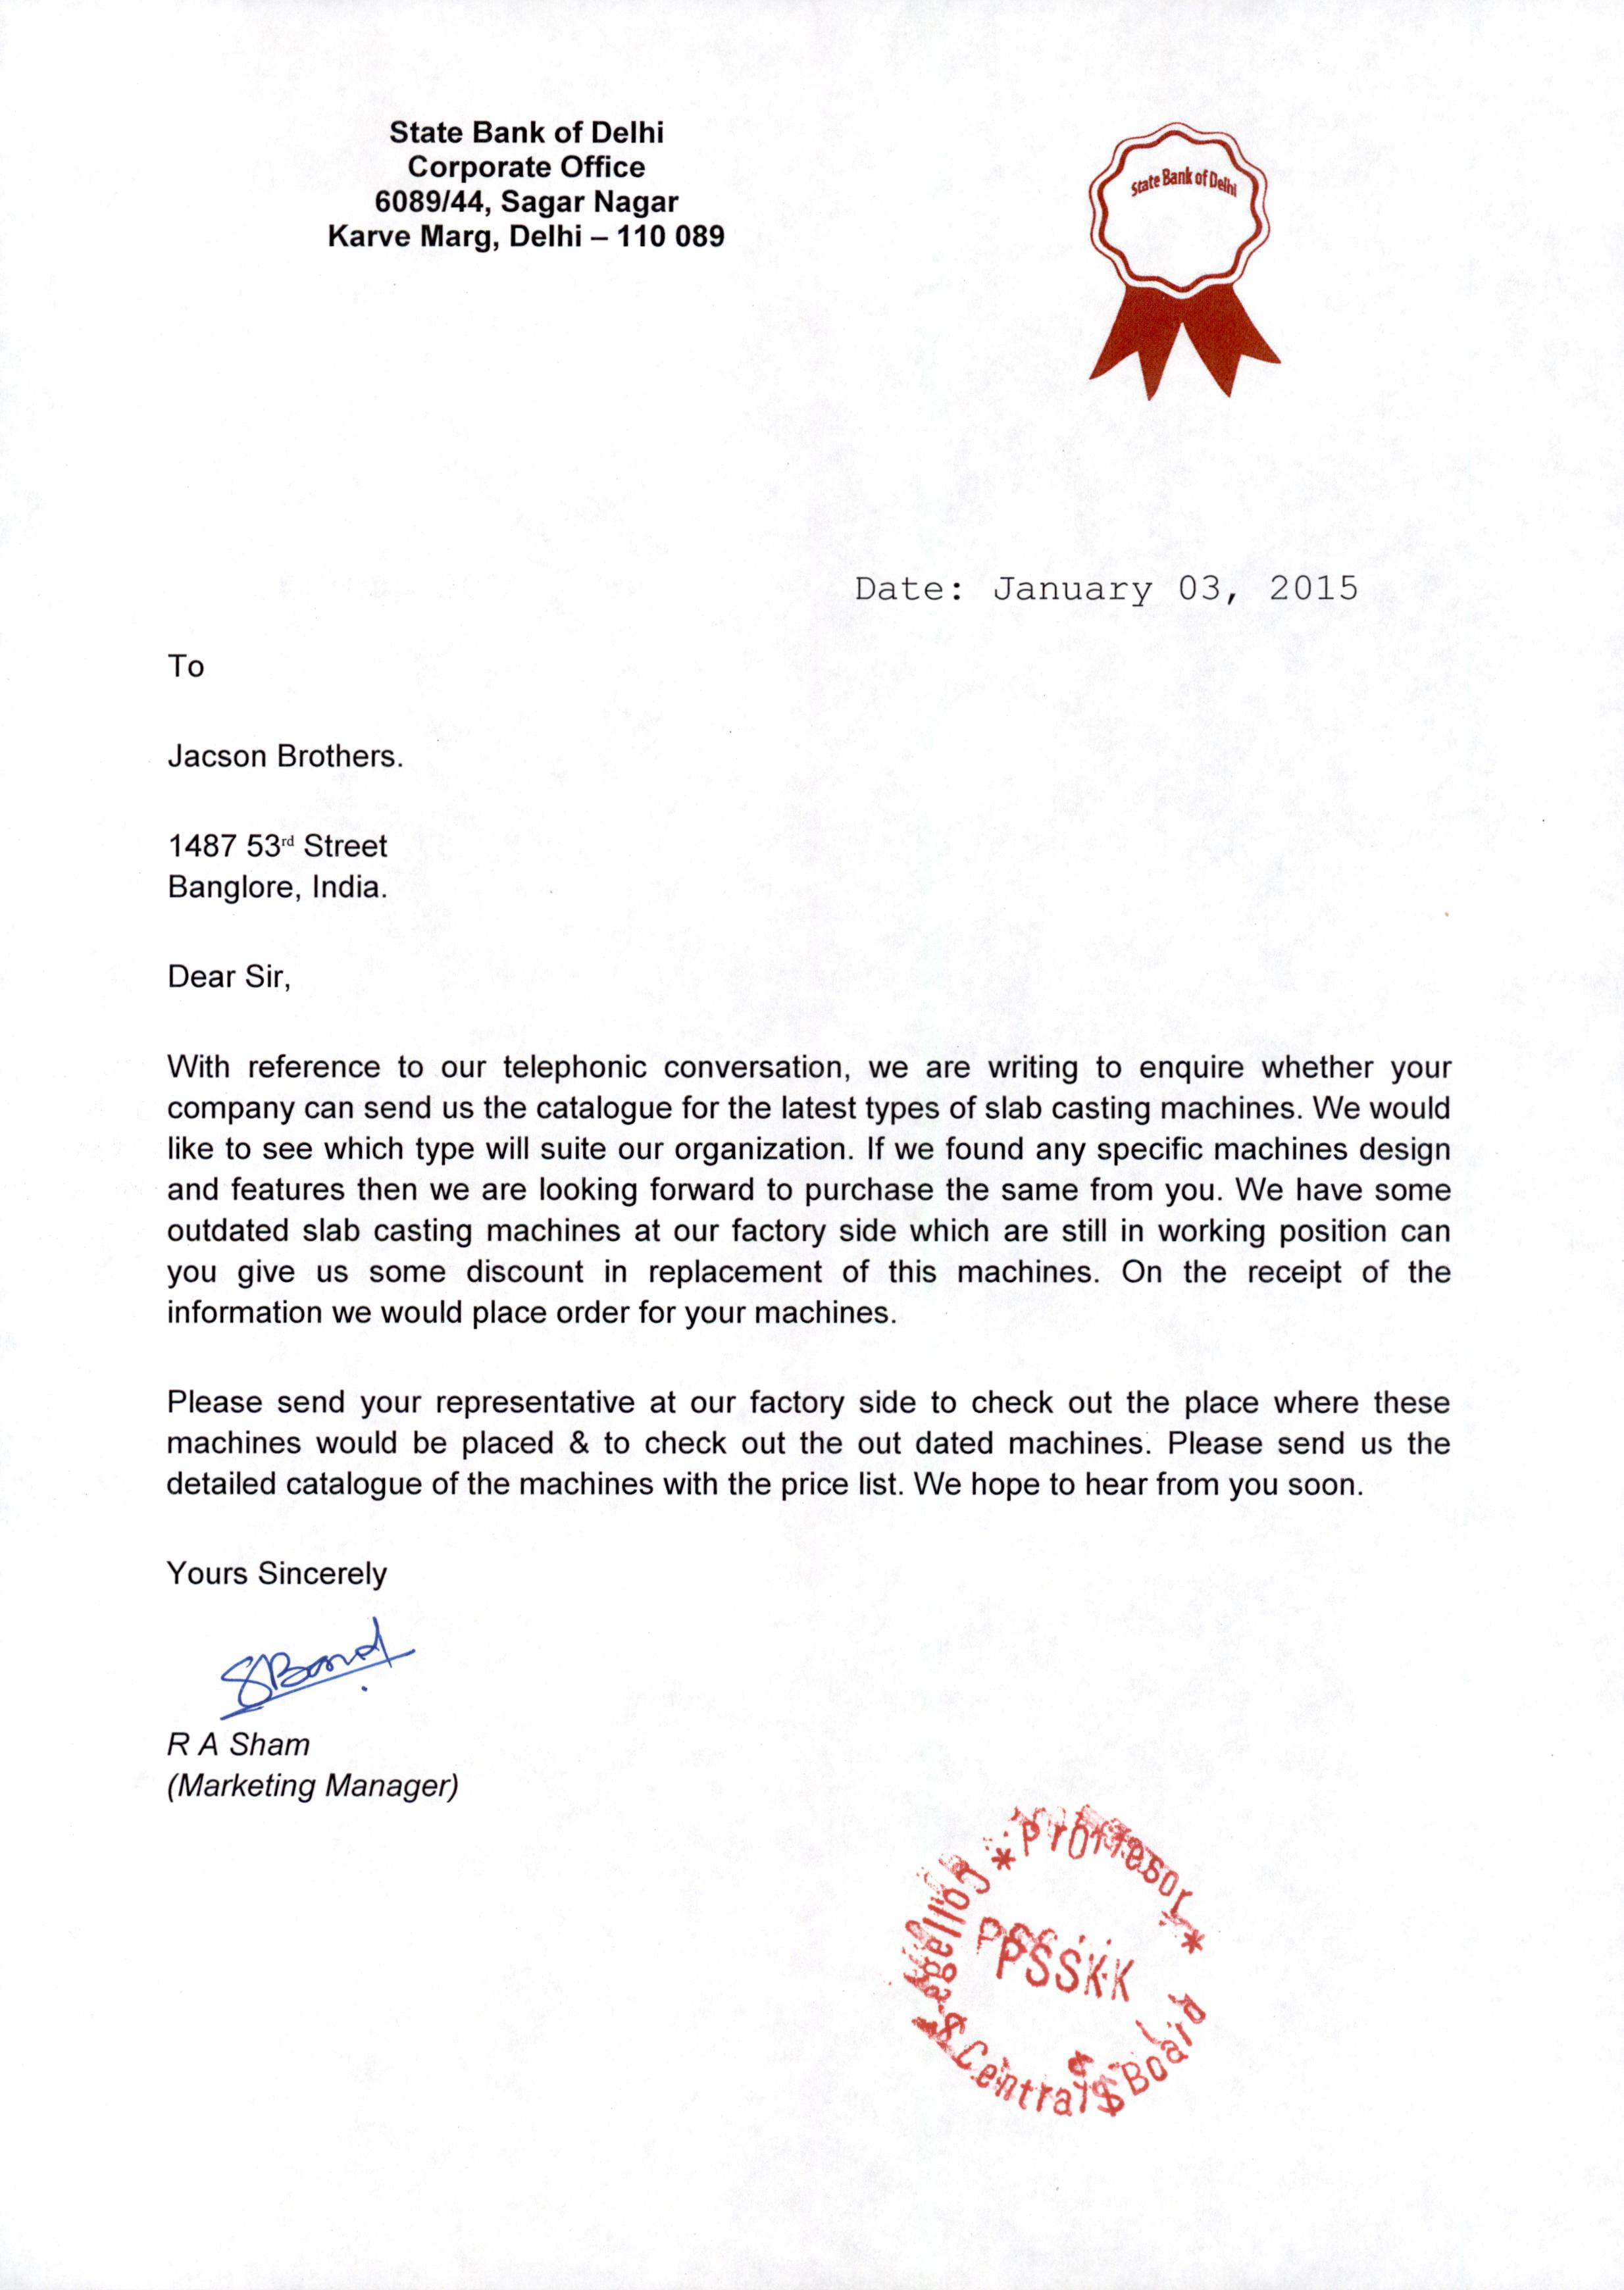Signature: (209, 1606, 425, 1729)
